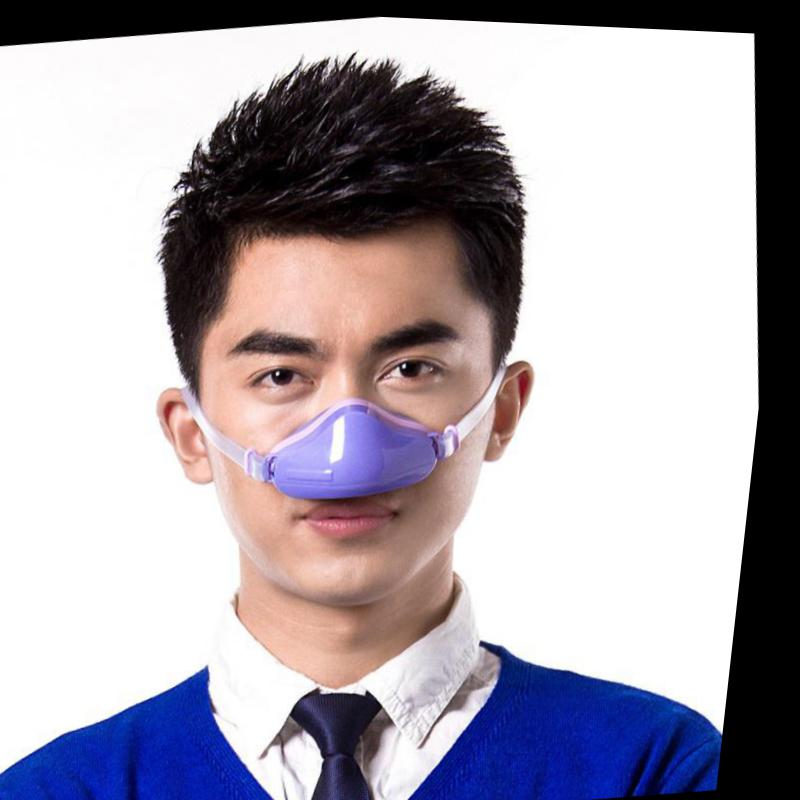WRONG: (183, 263, 529, 627)
